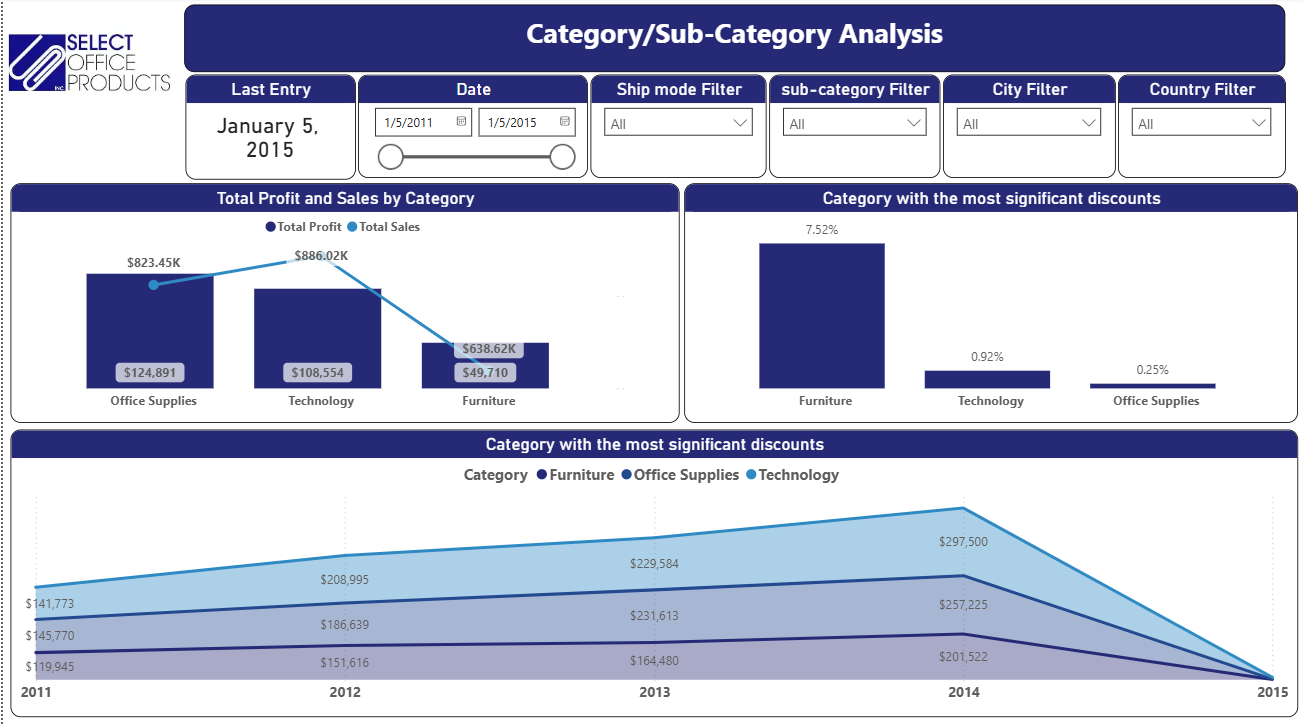

The page's visual inventory and layout, read from the dashboard file:
{"tool":"powerbi","page":{"name":"Category/Sub-Category Analysis","canvas":[1280,720],"ordinal":5},"visuals":[{"type":"textbox","box":[177.9,7.4,1081,66.3],"z":0},{"type":"image","box":[0,4.9,169.3,122.7],"z":1000},{"type":"slicer","title":"Country Filter","fields":{"Values":["Country.Country"]},"box":[1094.5,76.1,164.4,101.8],"z":2000},{"type":"slicer","title":"City Filter","fields":{"Values":["City.City"]},"box":[922.7,76.1,169.3,101.8],"z":3000},{"type":"slicer","title":"sub-category Filter","fields":{"Values":["Sub-Category.Sub-Category"]},"box":[752.2,76.1,168.1,101.8],"z":4000},{"type":"slicer","title":"Ship mode Filter","fields":{"Values":["Ship Mode.Ship Mode"]},"box":[576.7,76.1,173,101.8],"z":5000},{"type":"slicer","title":"Date","fields":{"Values":["Dim_date.Date"]},"box":[348.5,76.1,225.8,101.8],"z":6000},{"type":"card","title":"Last Entry","fields":{"Values":["Max(Dim_date.Date)"]},"box":[179.1,76.1,166.9,103.1],"z":7000},{"type":"lineStackedColumnComboChart","title":"Total Profit and Sales by Category","fields":{"Y":["_Measures.Total Profit"],"Category":["Category.Category"],"Y2":["_Measures.Total Sales"]},"box":[7.4,182.8,656.4,235.6],"z":8000},{"type":"columnChart","title":"Category  with the most significant discounts","fields":{"Category":["Category.Category"],"Y":["_Measures.Avg Discount per Category"]},"box":[668.7,182.8,602.5,235.6],"z":9000},{"type":"stackedAreaChart","title":"Category  with the most significant discounts","fields":{"Category":["Dim_date.Date.Variation.Date Hierarchy.Year","Dim_date.Date.Variation.Date Hierarchy.Quarter","Dim_date.Date.Variation.Date Hierarchy.Month","Dim_date.Date.Variation.Date Hierarchy.Day"],"Series":["Category.Category"],"Y":["_Measures.Total Sales"]},"box":[7.4,424.5,1263.8,282.2],"z":10000}]}

Visuals, with their boxes in screenshot pixels (x1, y1, x2, y2), scaled from the page's 1280x720 canvas onto the 1303x725 screenshot:
textbox: BBox(181, 7, 1282, 74)
image: BBox(0, 5, 172, 128)
"Country Filter" slicer: BBox(1114, 77, 1282, 179)
"City Filter" slicer: BBox(939, 77, 1112, 179)
"sub-category Filter" slicer: BBox(766, 77, 937, 179)
"Ship mode Filter" slicer: BBox(587, 77, 763, 179)
"Date" slicer: BBox(355, 77, 585, 179)
"Last Entry" card: BBox(182, 77, 352, 180)
"Total Profit and Sales by Category" lineStackedColumnComboChart: BBox(8, 184, 676, 421)
"Category  with the most significant discounts" columnChart: BBox(681, 184, 1294, 421)
"Category  with the most significant discounts" stackedAreaChart: BBox(8, 427, 1294, 712)
